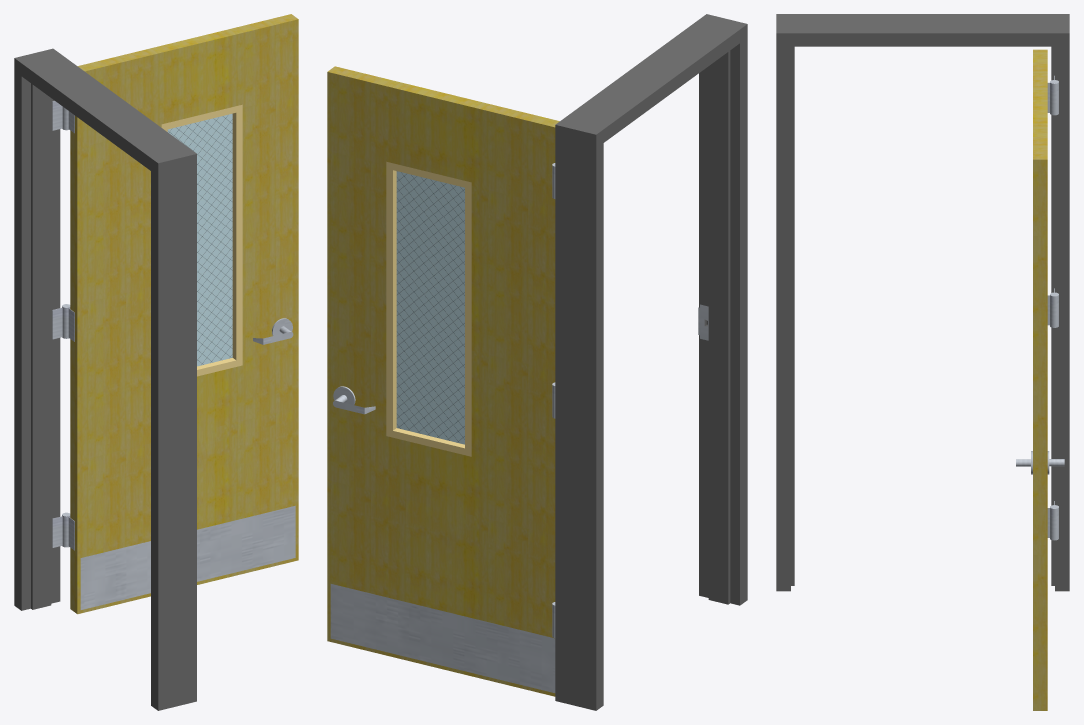
Rendered from open+door.gltf.
3 views of the same model, side by side, from view 1: azimuth 30°, elevation 25°; view 2: azimuth 150°, elevation 25°; view 3: azimuth 270°, elevation 25° (orthographic). The views are drawn at different scales.
Parts seen in each view (by area): view 1: standard door, doorway, hinge (×3); view 2: standard door, doorway; view 3: doorway, standard door.
Part boxes in pixels (x1=…): standard door: x1=70, y1=14, x2=298, y2=614; doorway: x1=14, y1=48, x2=196, y2=710; hinge (×3): x1=52, y1=101, x2=74, y2=550; standard door: x1=327, y1=66, x2=559, y2=696; doorway: x1=555, y1=14, x2=747, y2=710; doorway: x1=776, y1=14, x2=1069, y2=591; standard door: x1=1016, y1=49, x2=1064, y2=710.
Size of the model in its own units: 1.09 by 2.16 by 1.02.
Materials: 6 (4 with a texture image).
